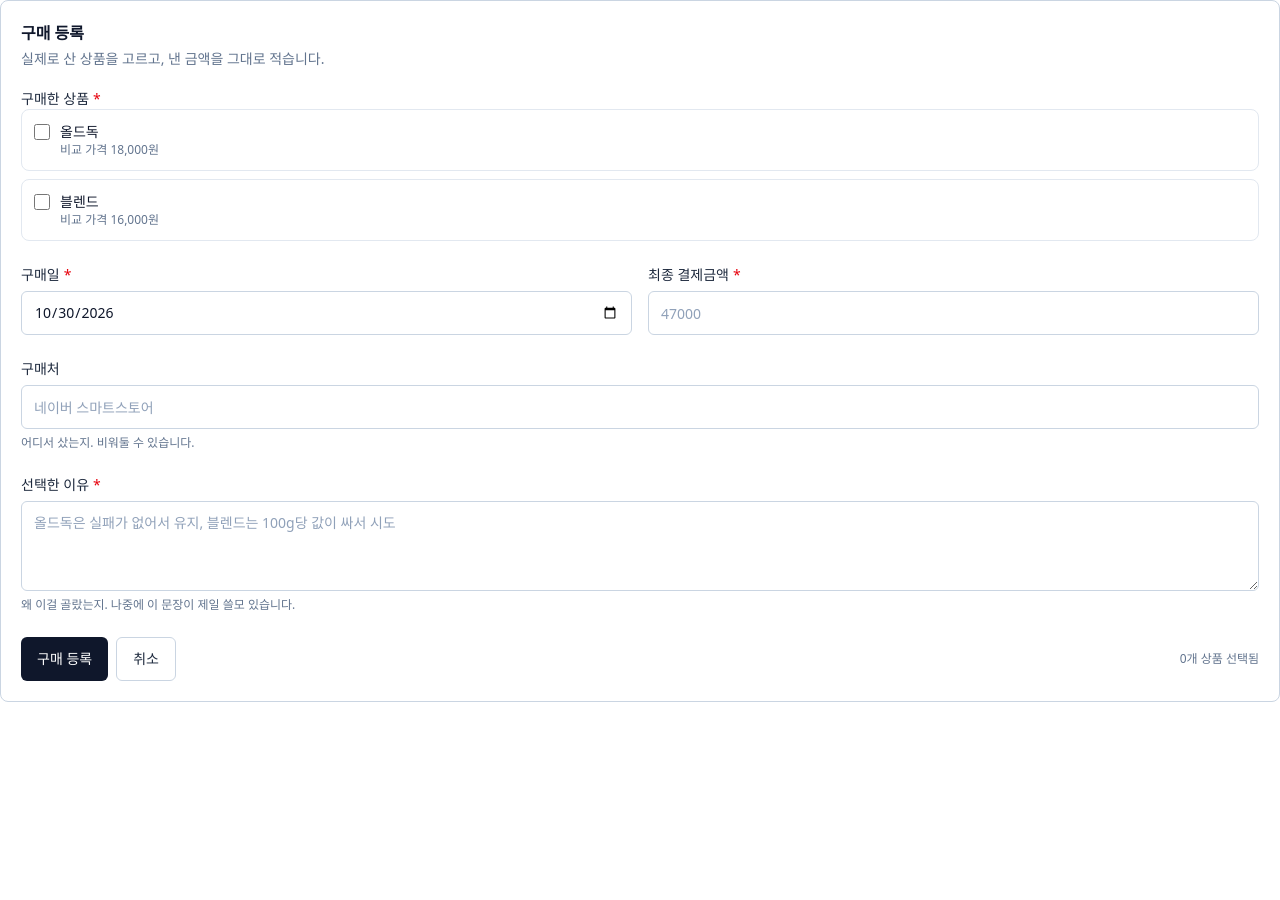
Test case: 블록 32 — 오류가 나면 커서가 어디로 가는가 › 상품을 고르지 않으면 오류가 뜨고 첫 체크박스로 간다
Click the button "구매 등록" at (65, 659), box x1=21 y1=637 x2=108 y2=681
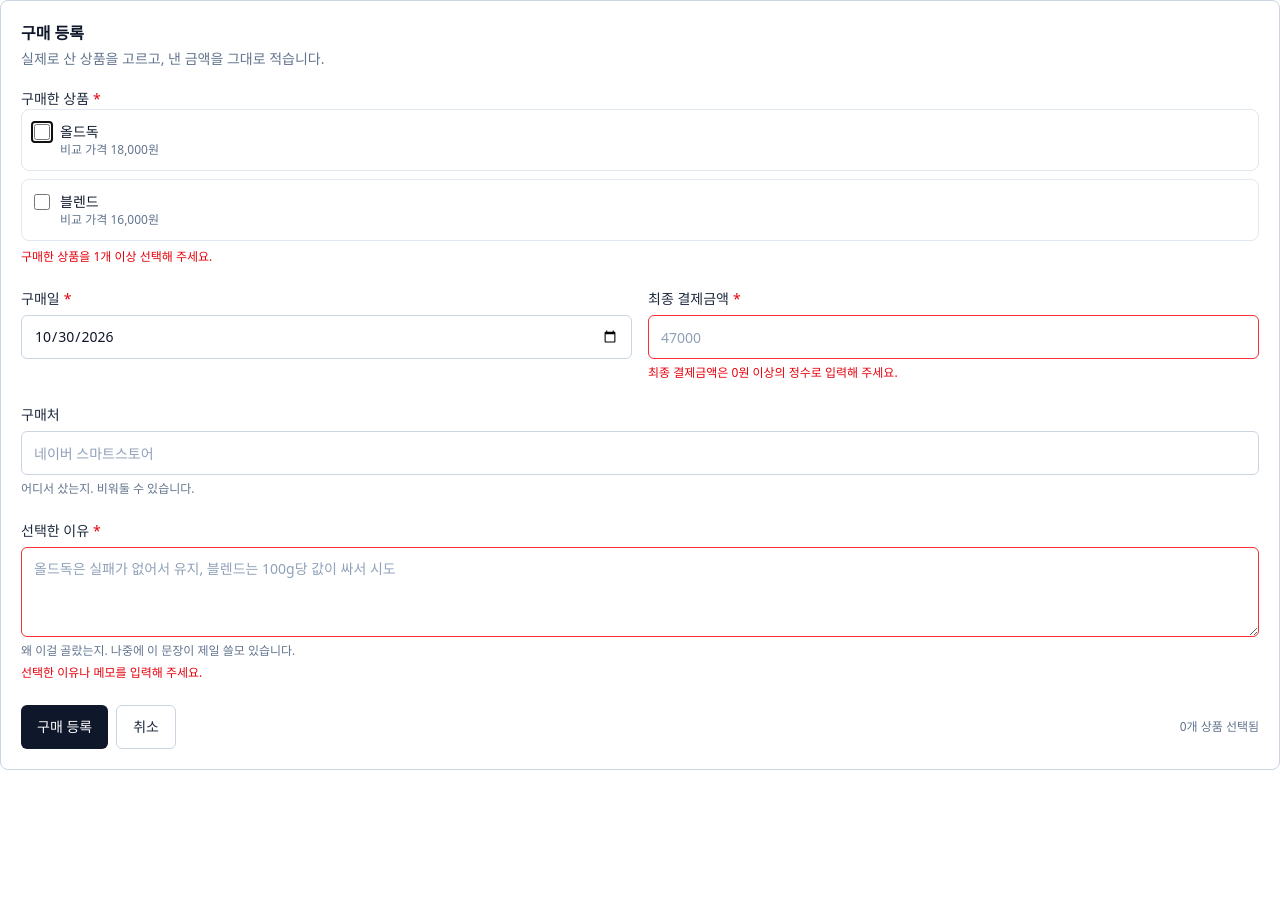
Expected: the text "구매한 상품을 1개 이상 선택해 주세요." is shown, x1=21 y1=248 x2=212 y2=265
